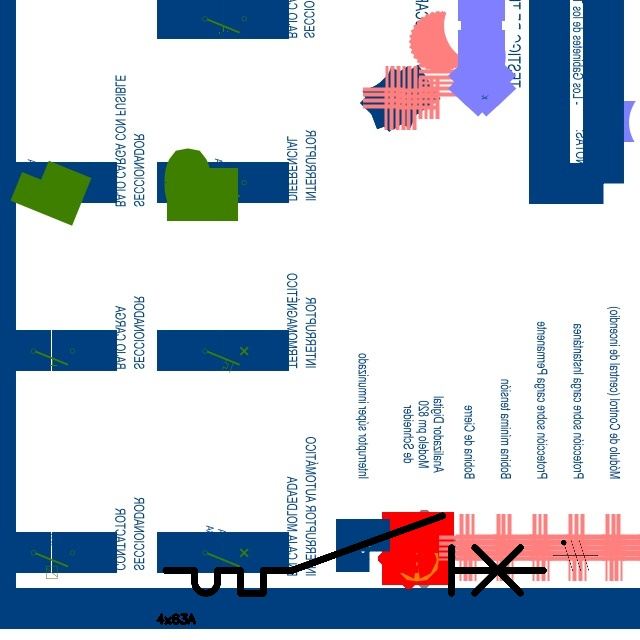interruptor_termomagnetico: (156, 506, 553, 603)
